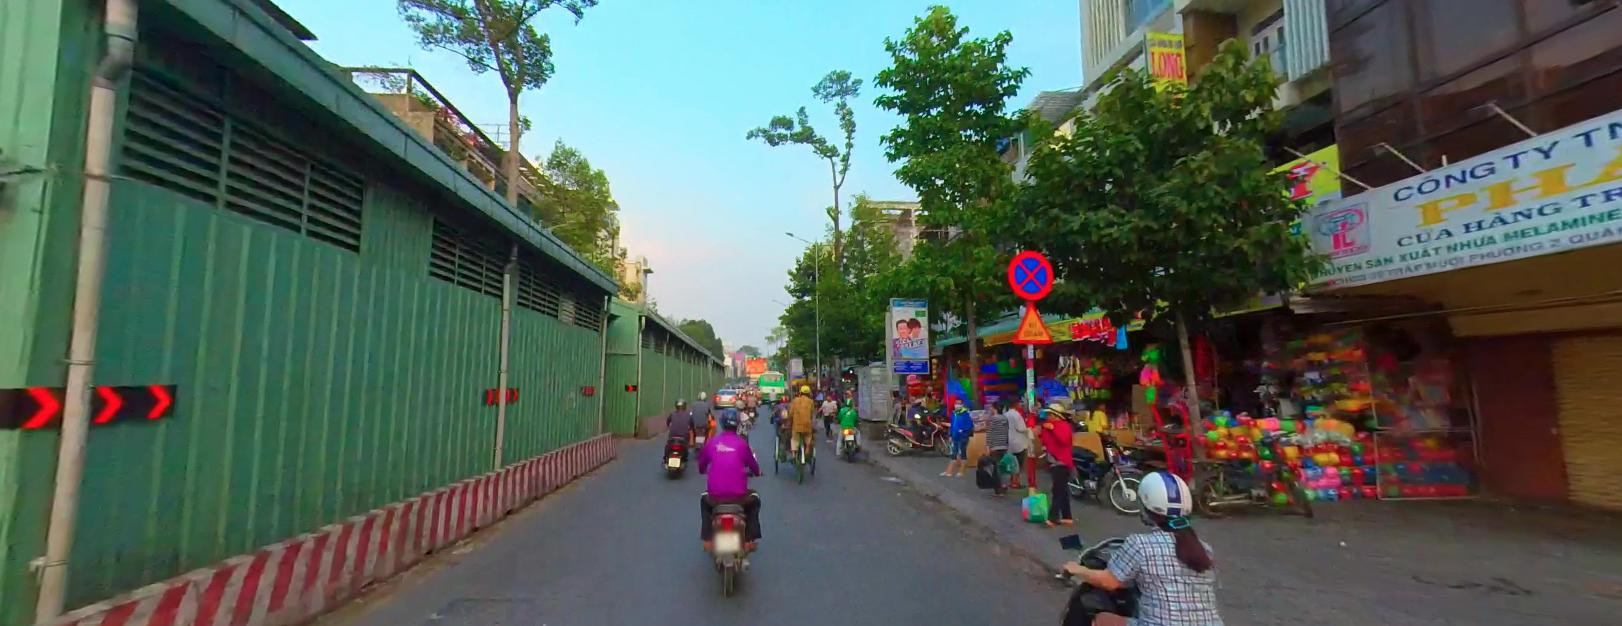Cam dung va do: (1007, 248, 1054, 298)
Nguy hiem: (1010, 299, 1053, 342)
